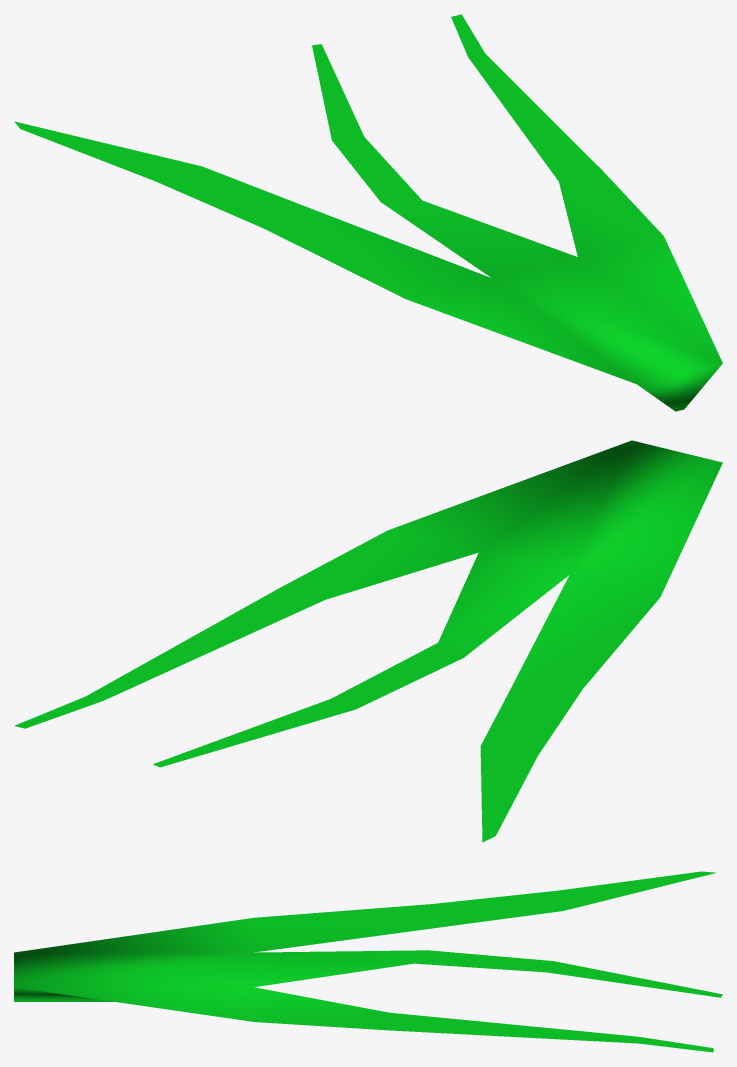
Rendered from grassa.fbx.
3 views of the same model, one above another, from view 1: azimuth 30°, elevation 25°; view 2: azimuth 150°, elevation 25°; view 3: azimuth 270°, elevation 25° (orthographic). The views are drawn at different scales.
Parts seen in each view (by area): view 1: grass; view 2: grass; view 3: grass.
Part boxes in pixels (x1,y1,x2,y2): grass: (14, 14, 722, 411); grass: (14, 440, 722, 842); grass: (14, 871, 722, 1052).
Size of the model in its own units: 2.08 by 0.1632 by 3.45.
